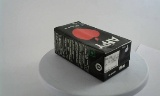appy: (48, 20, 123, 81)
